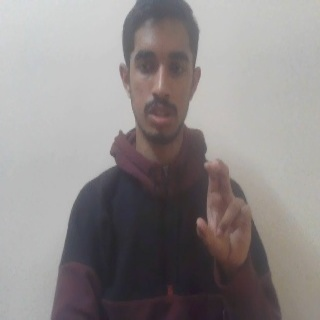No: (191, 157, 255, 268)
